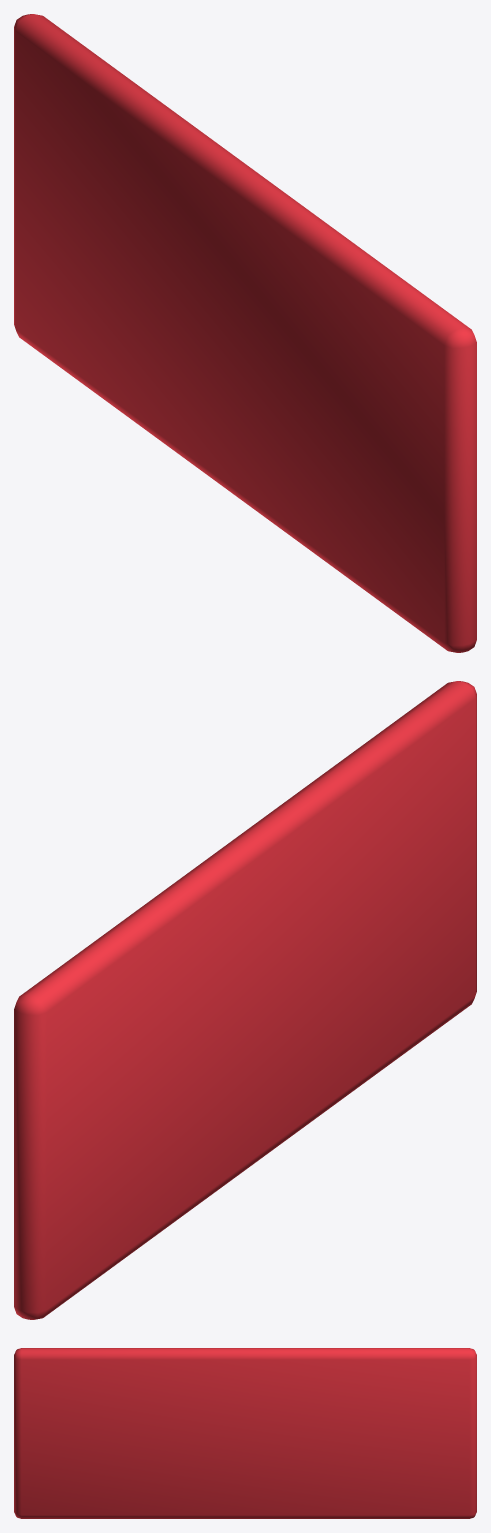
The model's file is GEO_GT3_SUPERCAR_Door_Front_R.glb.
3 views of the same model, one above another, from view 1: azimuth 30°, elevation 25°; view 2: azimuth 150°, elevation 25°; view 3: azimuth 270°, elevation 25° (orthographic). The views are drawn at different scales.
Parts seen in each view (by area): view 1: GEO_GT3_SUPERCAR_Door_Front_R; view 2: GEO_GT3_SUPERCAR_Door_Front_R; view 3: GEO_GT3_SUPERCAR_Door_Front_R.
Boxes of the visible parts, <box> form: GEO_GT3_SUPERCAR_Door_Front_R: <box>14,14,476,652</box>; GEO_GT3_SUPERCAR_Door_Front_R: <box>14,681,476,1319</box>; GEO_GT3_SUPERCAR_Door_Front_R: <box>14,1348,476,1518</box>.
Bounding box in the file's own units: 0.05 × 0.494 × 1.23.
